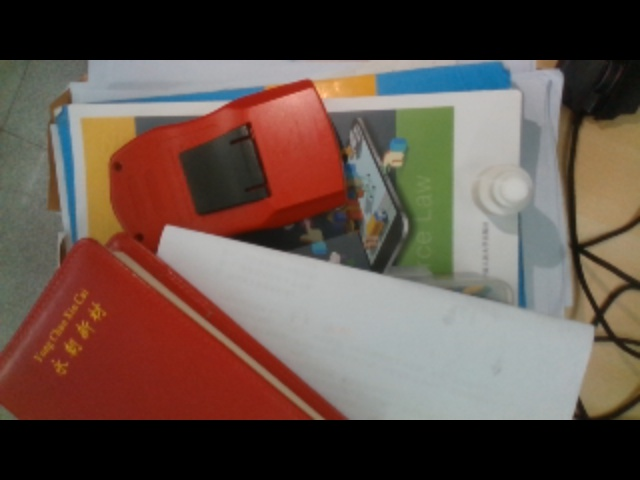Multimeter: (107, 78, 348, 249)
Screw holes: (113, 161, 124, 174), (134, 231, 143, 242)
